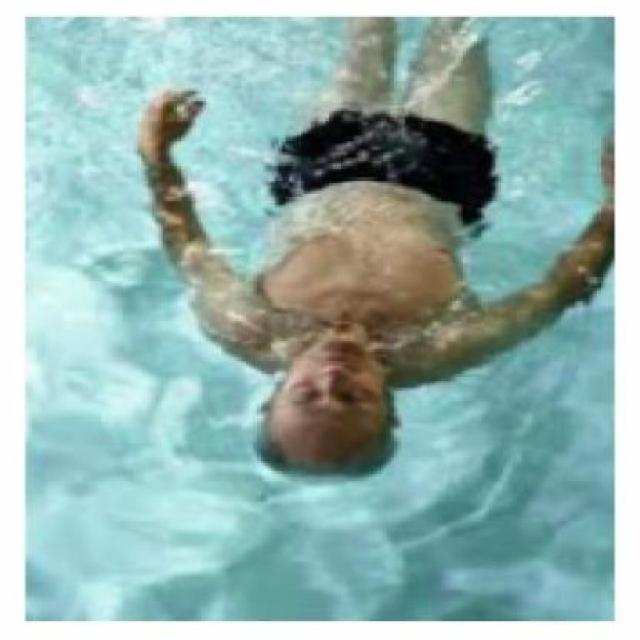drowning: (222, 24, 502, 456)
